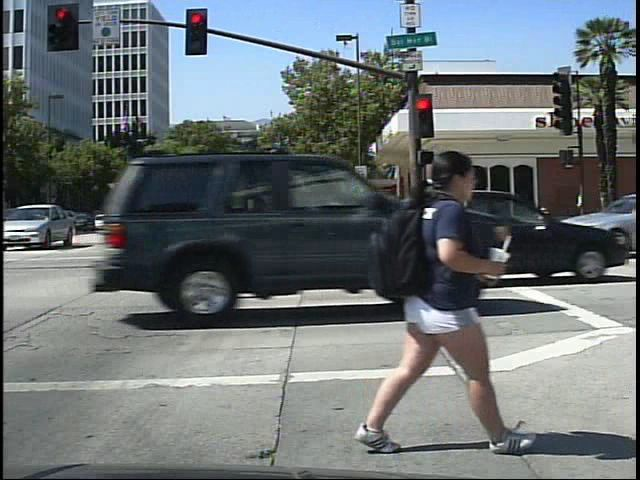person: (342, 131, 519, 458)
